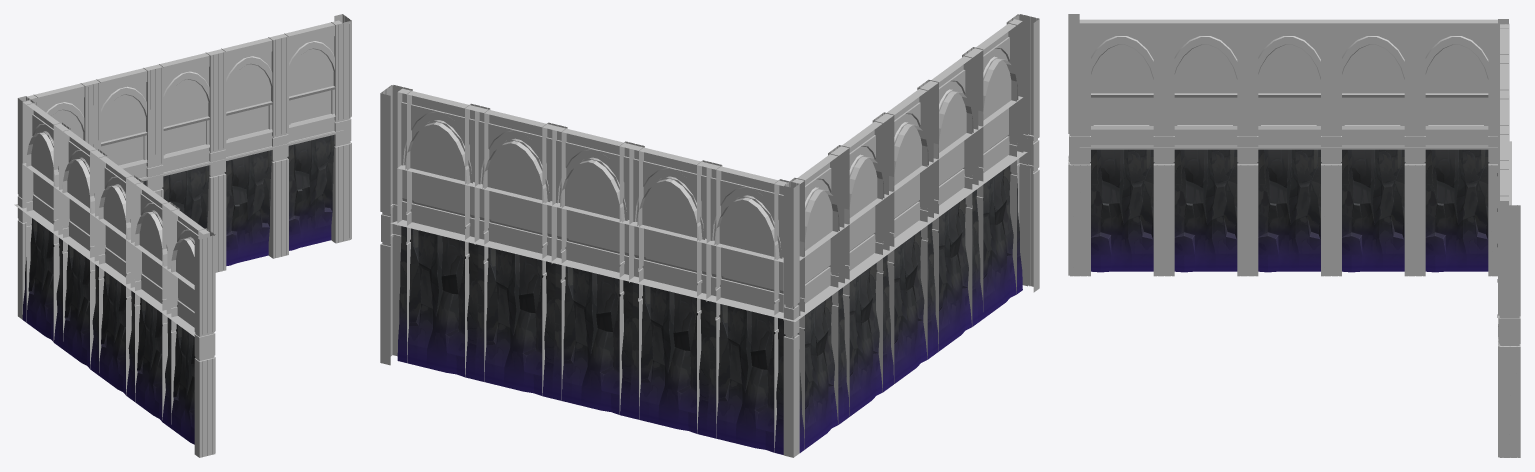
Rendered from Wall_Stage1_NDoor.FBX.
3 renders of one model, left to right at view 1: azimuth 30°, elevation 25°; view 2: azimuth 150°, elevation 25°; view 3: azimuth 270°, elevation 25°, orthographic. The views are drawn at different scales.
Visible parts, largest first — view 1: RightPiller, RightUnderwall, LeftPillar, RightUpperwall, RightPiller001, RightStained, LeftPillar001, LeftUpperwall, LeftUnderwall, bottomwallsmall008, bottomwallsmall009, LeftStained (+7 smaller); view 2: RightUnderwall, RightUpperwall, RightStained, LeftPillar, LeftPillar001, bottomwallsmall008, bottomwallsmall005, bottomwallsmall006, bottomwallsmall009, RightPiller, bottomwallsmall007, LeftUpperwall (+9 smaller); view 3: LeftUnderwall, LeftPillar001, LeftPillar, LeftStained, LeftUpperwall, bottomwallsmall001, bottomwallsmall004, bottomwallsmall, bottomwallsmall002, bottomwallsmall003, RightPiller, RightPiller001 (+2 smaller).
Part boxes in pixels (box(x1,y1,x2,y2)): RightPiller: box(18, 14, 351, 207); RightUnderwall: box(101, 86, 335, 179); LeftPillar: box(17, 96, 215, 348); RightUpperwall: box(26, 20, 342, 132); RightPiller001: box(18, 130, 351, 319); RightStained: box(51, 49, 333, 142); LeftPillar001: box(17, 208, 215, 457); LeftUpperwall: box(23, 100, 209, 271); LeftUnderwall: box(22, 163, 194, 327); bottomwallsmall008: box(224, 150, 272, 265); bottomwallsmall009: box(287, 135, 334, 250); LeftStained: box(31, 130, 194, 284); RightUnderwall: box(397, 165, 785, 320); RightUpperwall: box(397, 88, 788, 260); RightStained: box(410, 120, 782, 258); LeftPillar: box(783, 14, 1039, 322); LeftPillar001: box(783, 150, 1039, 457); bottomwallsmall008: box(475, 245, 555, 398); bottomwallsmall005: box(552, 264, 632, 417); bottomwallsmall006: box(629, 282, 710, 436); bottomwallsmall009: box(397, 226, 478, 379); RightPiller: box(380, 85, 799, 322); bottomwallsmall007: box(707, 301, 785, 454); LeftUpperwall: box(791, 19, 1022, 257); LeftUnderwall: box(1090, 93, 1489, 146); LeftPillar001: box(1068, 149, 1497, 276); LeftPillar: box(1068, 14, 1509, 149); LeftStained: box(1091, 44, 1488, 93); LeftUpperwall: box(1079, 19, 1497, 79); bottomwallsmall001: box(1173, 149, 1238, 272); bottomwallsmall004: box(1424, 149, 1489, 272); bottomwallsmall: box(1257, 149, 1321, 272); bottomwallsmall002: box(1090, 149, 1154, 272); bottomwallsmall003: box(1341, 149, 1405, 272); RightPiller: box(1498, 19, 1520, 331); RightPiller001: box(1498, 324, 1520, 457).
Bounding box in the file's own units: 1278 × 787 × 1277.
